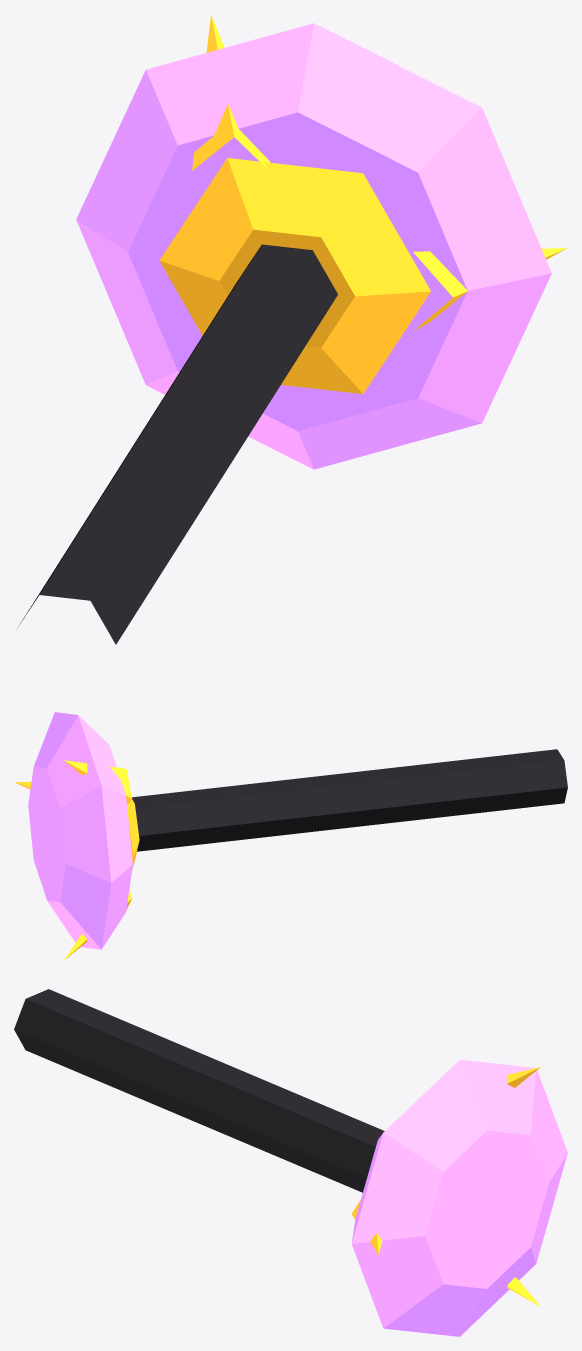
Rendered from staff_of_the_archmage.glb.
3 renders of one model, top to bottom at view 1: azimuth 30°, elevation 25°; view 2: azimuth 150°, elevation 25°; view 3: azimuth 270°, elevation 25°, orthographic. The views are drawn at different scales.
Visible parts, largest first — view 1: staff_of_the_archmage; view 2: staff_of_the_archmage; view 3: staff_of_the_archmage.
Boxes of the visible parts, x1,y1,x2,y2 form: staff_of_the_archmage: (18, 14, 567, 644); staff_of_the_archmage: (15, 712, 567, 960); staff_of_the_archmage: (14, 989, 567, 1336).
Bounding box in the file's own units: 1.05 × 0.5526 × 1.
